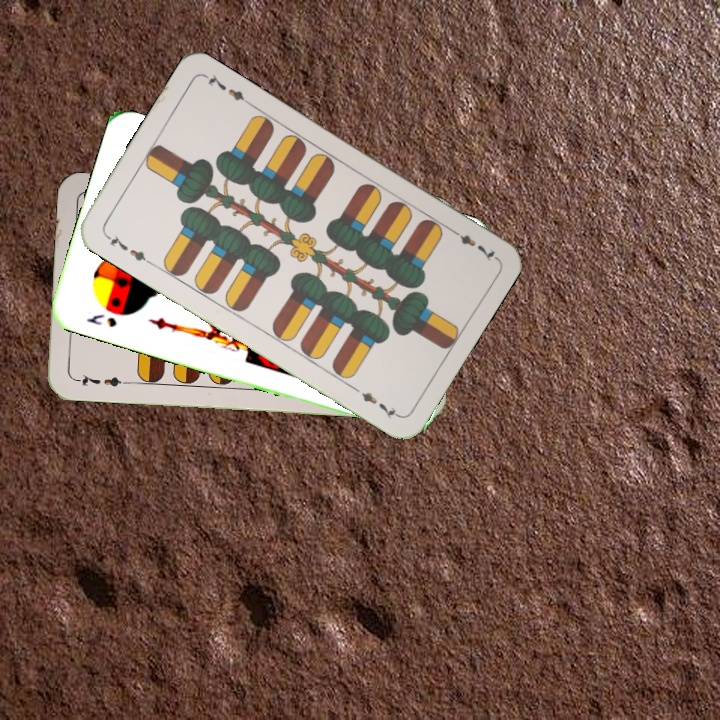E7: (446, 224, 499, 264), (101, 230, 154, 267), (71, 370, 130, 390)
SK: (82, 310, 120, 330)
